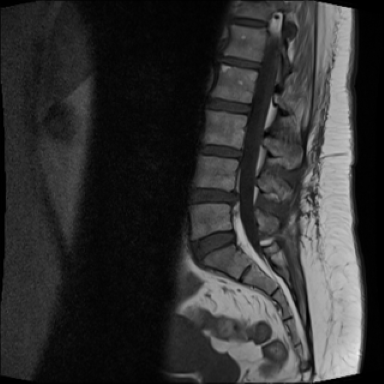Degenerative Disc Disease (DDD): (227, 15, 271, 30)
Lumbar Disc Bulge (LDB): (184, 183, 243, 208)
Normal IVD: (189, 228, 238, 268), (196, 139, 247, 164), (199, 95, 254, 117), (217, 55, 264, 73)
Spinal Stenosis (SS): (225, 188, 245, 210)
